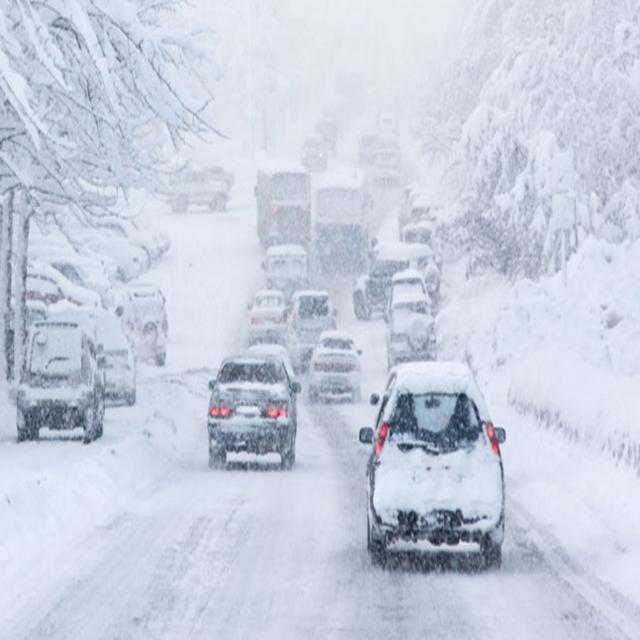car: (360, 362, 508, 572), (14, 317, 104, 444), (207, 350, 299, 473), (69, 306, 135, 402), (352, 247, 438, 310), (114, 282, 168, 365), (308, 336, 364, 404), (156, 166, 228, 215), (286, 292, 336, 358), (383, 302, 436, 362), (28, 264, 98, 304), (49, 254, 111, 298), (79, 228, 137, 272), (103, 216, 155, 259), (248, 290, 288, 342), (384, 280, 432, 314), (126, 212, 170, 249), (301, 135, 327, 165), (372, 150, 398, 179), (316, 118, 336, 150), (358, 136, 378, 162)
truck: (313, 169, 369, 274), (260, 170, 309, 252)
